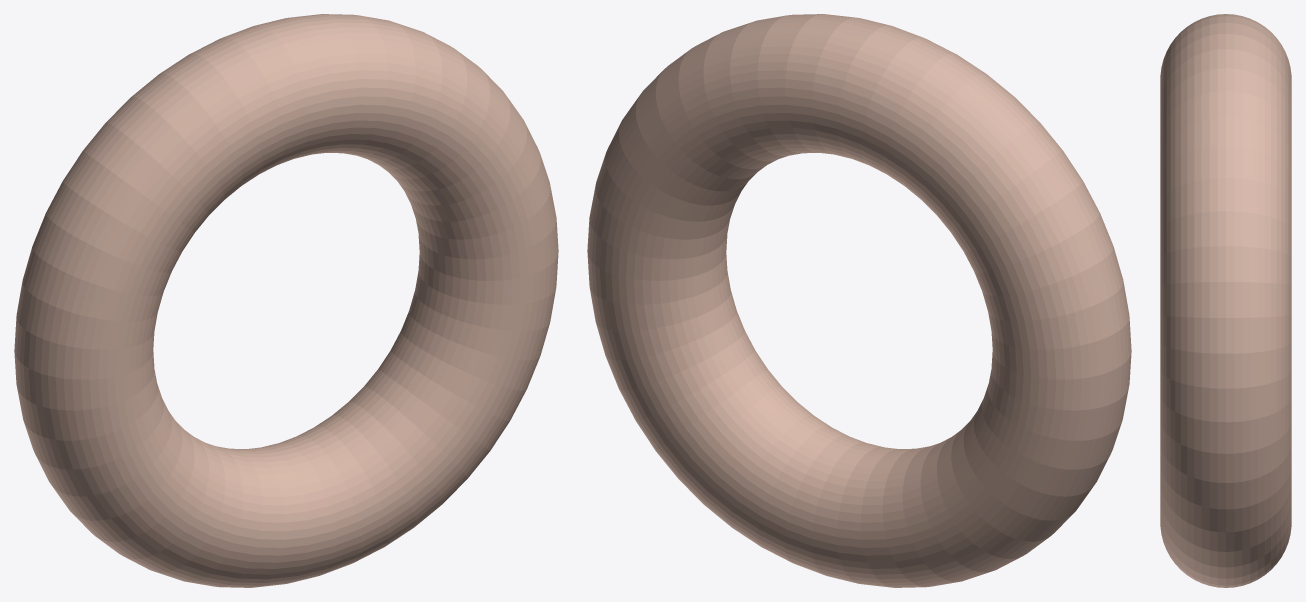
3 renders of one model, left to right at view 1: azimuth 30°, elevation 25°; view 2: azimuth 150°, elevation 25°; view 3: azimuth 270°, elevation 25°, orthographic. The views are drawn at different scales.
Parts seen in each view (by area): view 1: world; view 2: world; view 3: world.
Part boxes in pixels (x1,y1,x2,y2): world: (14,14,558,587); world: (587,14,1131,587); world: (1160,14,1291,587).
Size of the model in its own units: 28.53 by 28.48 by 6.52.
